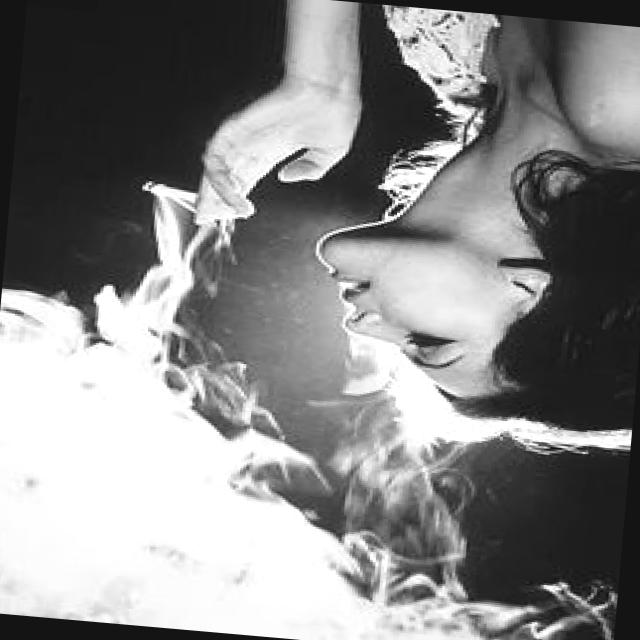smoke: (126, 174, 205, 206)
